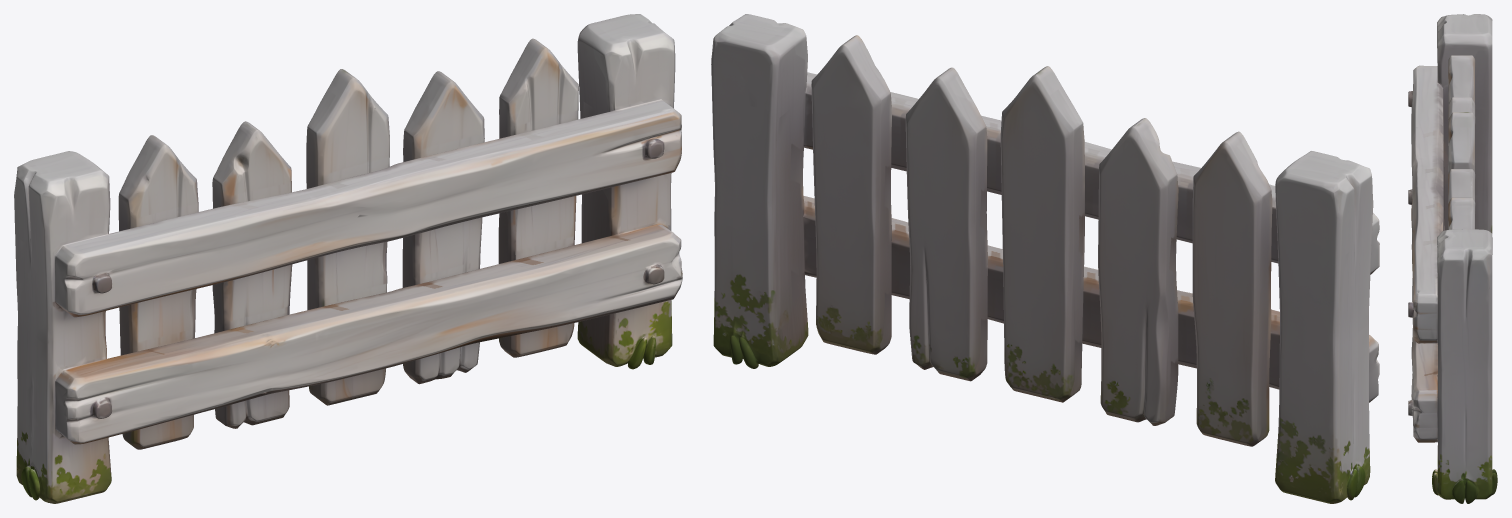
Rendered from picket-fence.glb.
3 renders of one model, left to right at view 1: azimuth 30°, elevation 25°; view 2: azimuth 150°, elevation 25°; view 3: azimuth 270°, elevation 25°, orthographic. The views are drawn at different scales.
Parts seen in each view (by area): view 1: node_0; view 2: node_0; view 3: node_0.
Boxes of the visible parts, x1,y1,x2,y2 form: node_0: (14, 14, 682, 503); node_0: (711, 14, 1379, 503); node_0: (1408, 14, 1497, 503).
Size of the model in its own units: 1.07 by 0.5665 by 0.1676.
Materials: 1 (1 with a texture image).
